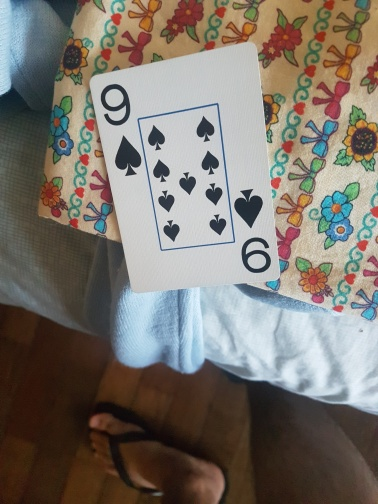nine: (91, 42, 282, 293)
